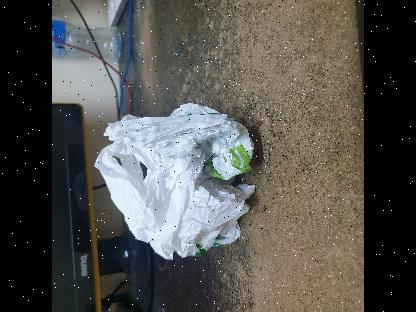Others: (94, 102, 258, 260)
